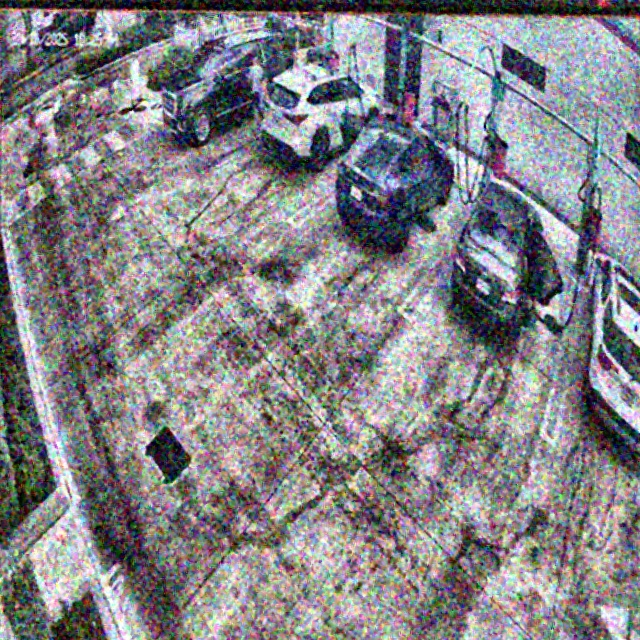Car: (450, 180, 561, 336), (338, 114, 458, 248), (261, 65, 383, 170)
